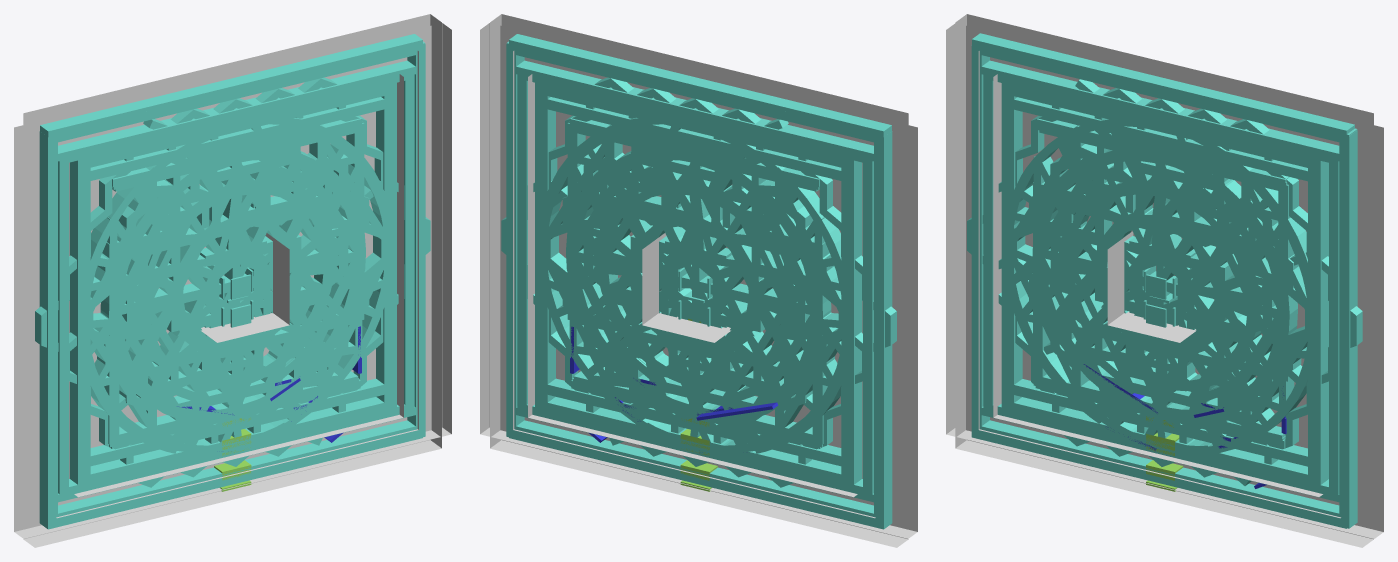
The model's file is Playground.glb.
3 renders of one model, left to right at view 1: azimuth 30°, elevation 25°; view 2: azimuth 150°, elevation 25°; view 3: azimuth 330°, elevation 25°, orthographic.
Visible parts, largest first — view 1: Cube.012, Curve.014, Curve.006, Curve, Curve.075, Curve.011, Curve.004, Cube.016, Curve.015, Curve.007, Curve.017, Curve.012 (+13 smaller); view 2: Cube.012, Curve.014, Curve.075, Curve.006, Curve, Cube.016, Curve.004, Curve.015, Curve.012, Curve.082, Curve.011, Curve.017 (+12 smaller); view 3: Cube.012, Curve, Curve.014, Curve.006, Curve.011, Curve.016, Cube.016, Curve.004, Curve.003, Curve.082, Curve.075, Curve.007 (+13 smaller).
Boxes of the visible parts, x1,y1,x2,y2 form: Cube.012: [14, 23, 451, 538]; Curve.014: [39, 52, 422, 529]; Curve.006: [50, 60, 425, 502]; Curve: [50, 41, 425, 491]; Curve.075: [69, 91, 389, 486]; Curve.011: [61, 74, 414, 488]; Curve.004: [40, 34, 422, 523]; Cube.016: [23, 14, 441, 547]; Curve.015: [80, 84, 394, 488]; Curve.007: [83, 99, 395, 466]; Curve.017: [80, 80, 393, 476]; Curve.012: [60, 80, 410, 498]; Cube.012: [480, 23, 917, 538]; Curve.014: [509, 48, 892, 529]; Curve.075: [540, 87, 862, 485]; Curve.006: [506, 60, 881, 504]; Curve: [506, 41, 881, 514]; Cube.016: [490, 14, 908, 547]; Curve.004: [509, 34, 891, 523]; Curve.015: [537, 92, 851, 488]; Curve.012: [519, 71, 871, 498]; Curve.082: [542, 92, 852, 486]; Curve.011: [517, 71, 870, 488]; Curve.017: [540, 88, 852, 476]; Cube.012: [946, 23, 1383, 538]; Curve: [974, 43, 1357, 527]; Curve.014: [971, 45, 1346, 528]; Curve.006: [974, 60, 1348, 504]; Curve.011: [985, 71, 1339, 494]; Curve.016: [1007, 81, 1328, 484]; Cube.016: [955, 14, 1373, 547]; Curve.004: [972, 33, 1354, 516]; Curve.003: [974, 55, 1357, 528]; Curve.082: [1003, 82, 1316, 486]; Curve.075: [1001, 83, 1315, 474]; Curve.007: [1006, 102, 1319, 469].
Bounding box in the file's own units: 59.17 × 56.25 × 10.
